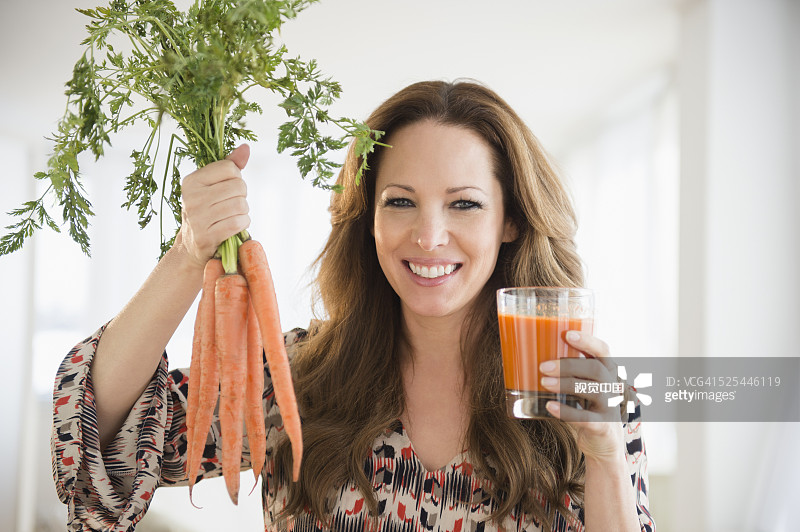no-phone: (146, 129, 281, 294)
